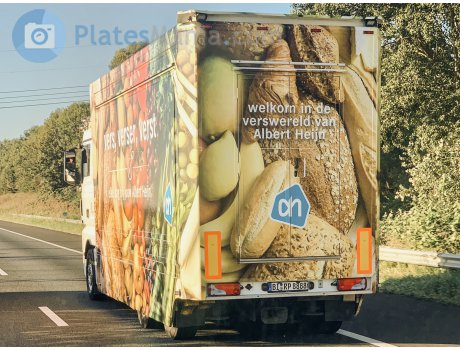License Plates: (267, 278, 311, 289)
